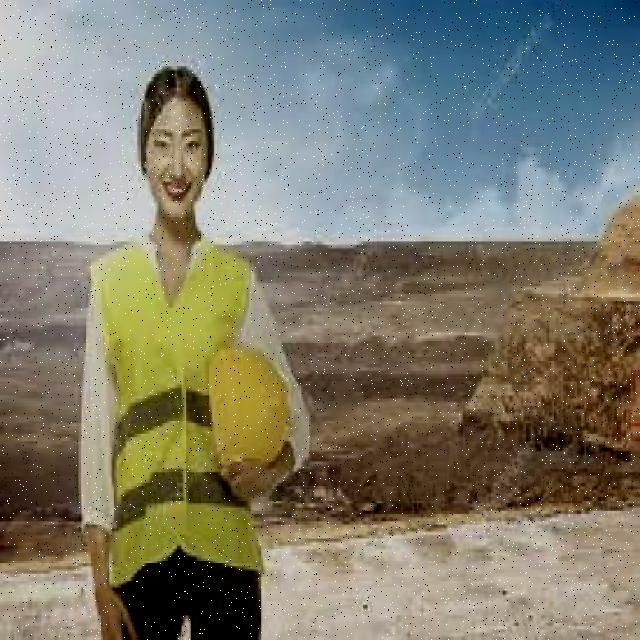Mask: (85, 231, 262, 574)
